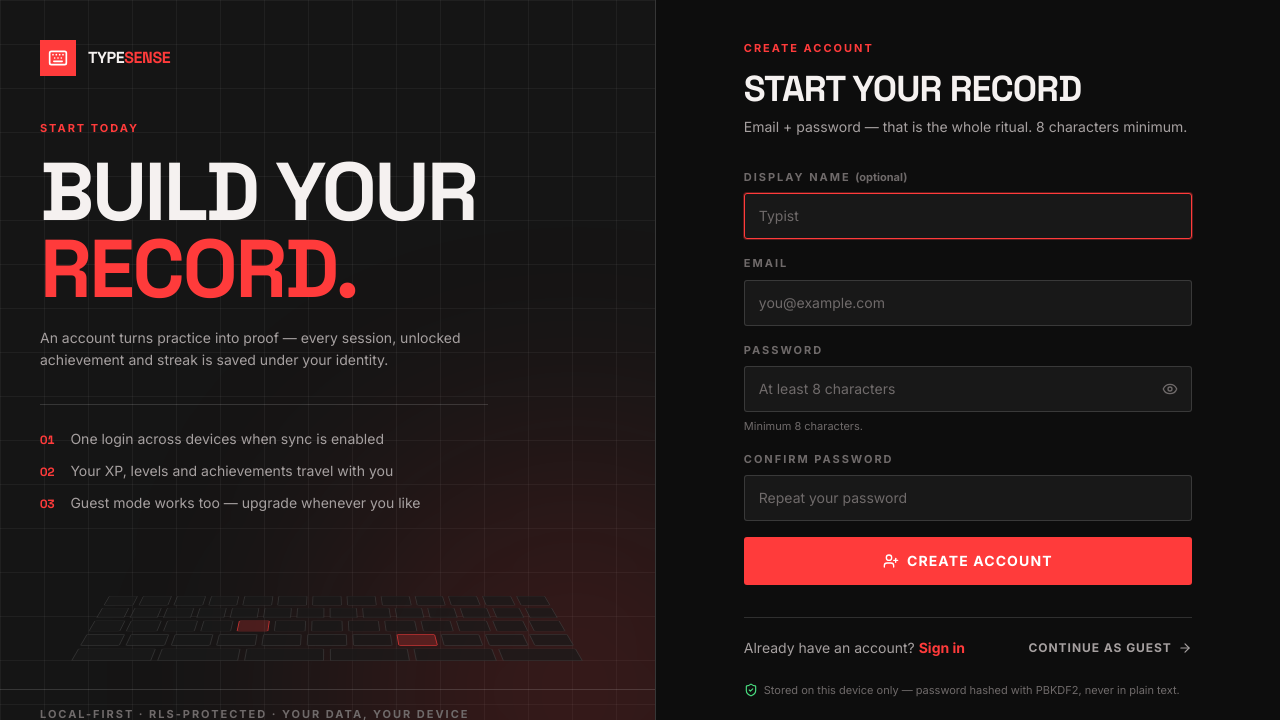
it: auth pages › rejects short passwords before any network work
The width and height of the screenshot is (1280, 720).
Type "new@example.com" into the field labelled "Email" at (968, 302), box [744,280,1192,326]
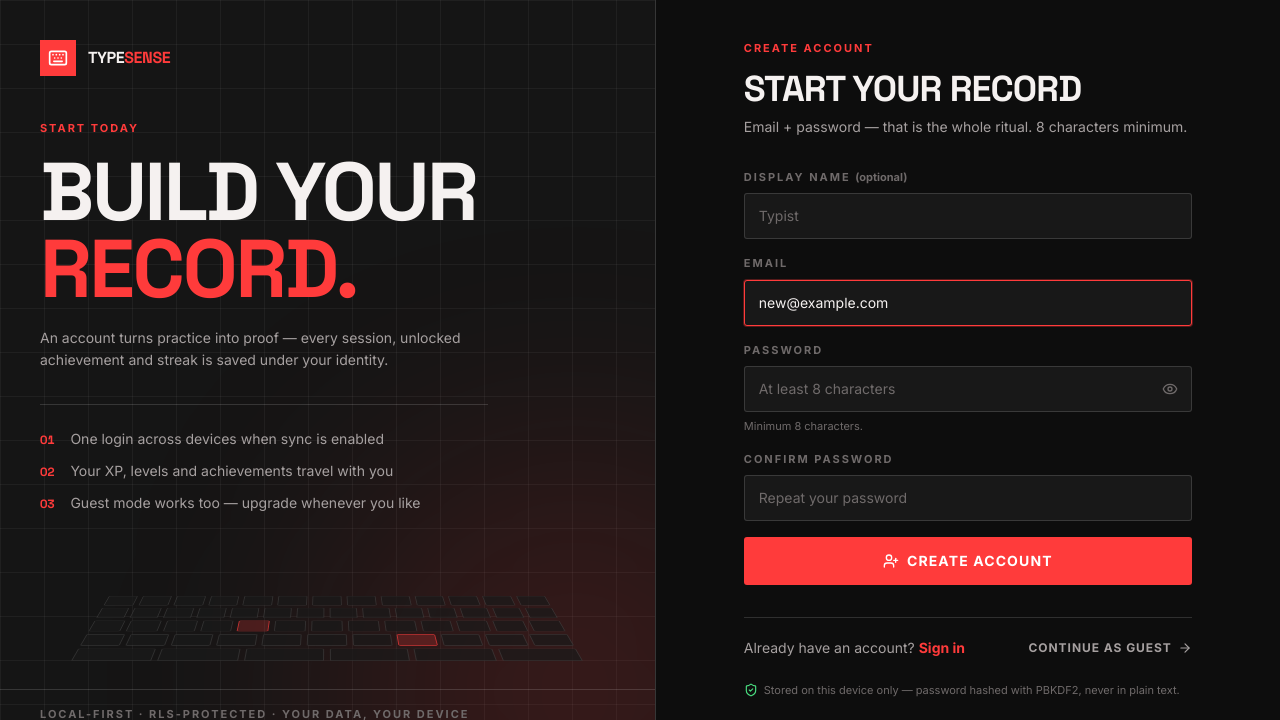
Type "short" into the password field labelled "Password" at (968, 389), box [744,366,1192,412]
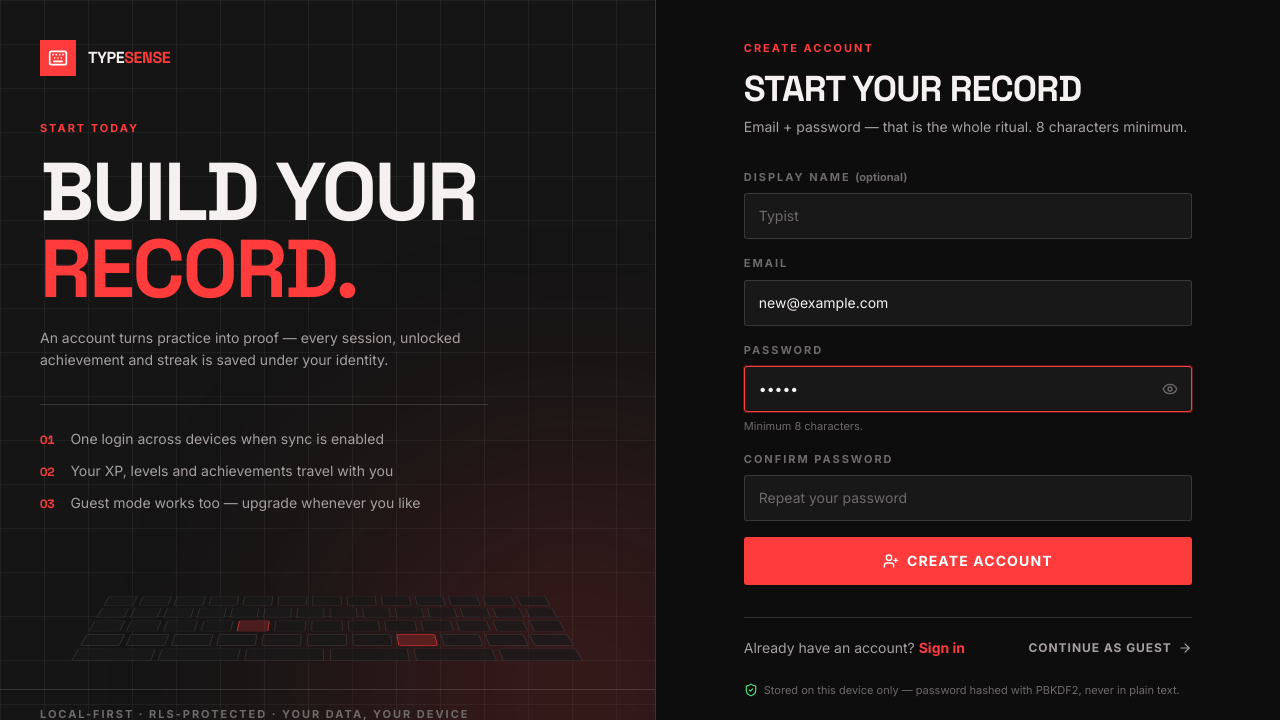
Type "short" into the password field labelled "Confirm password" at (968, 498), box [744,475,1192,521]
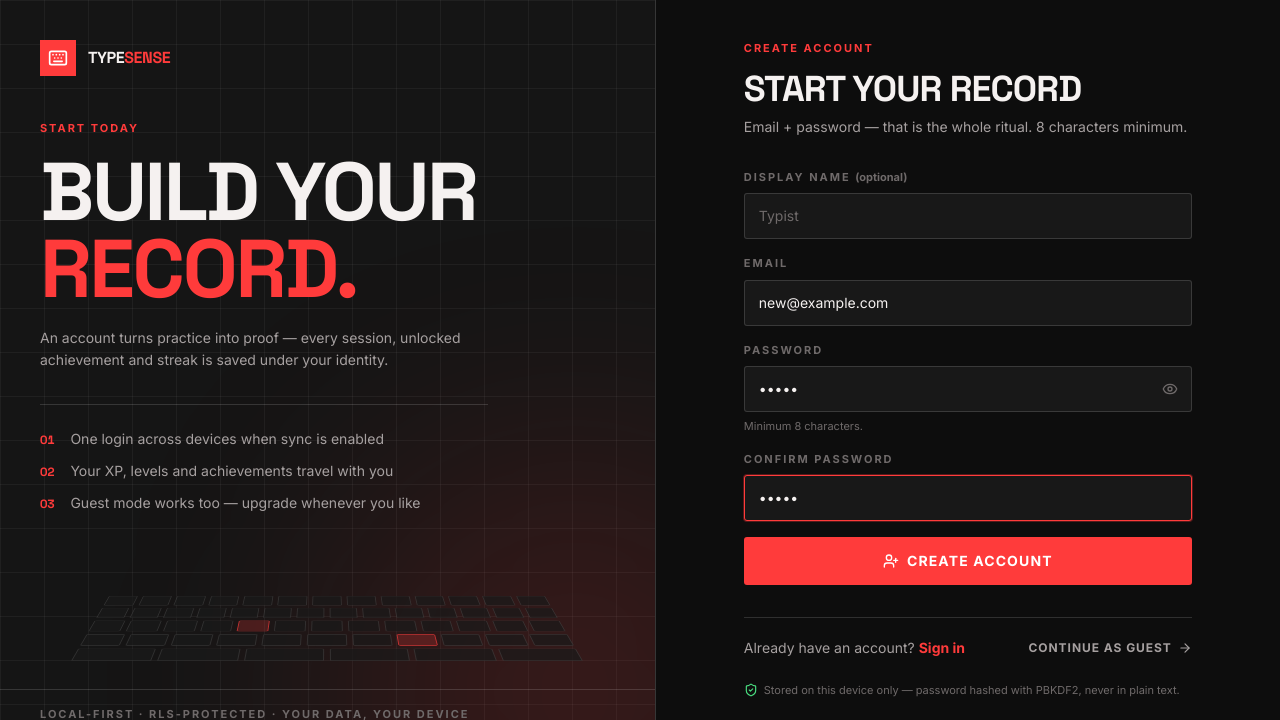
Click the button "Create account" at (968, 561), box [744,537,1192,585]
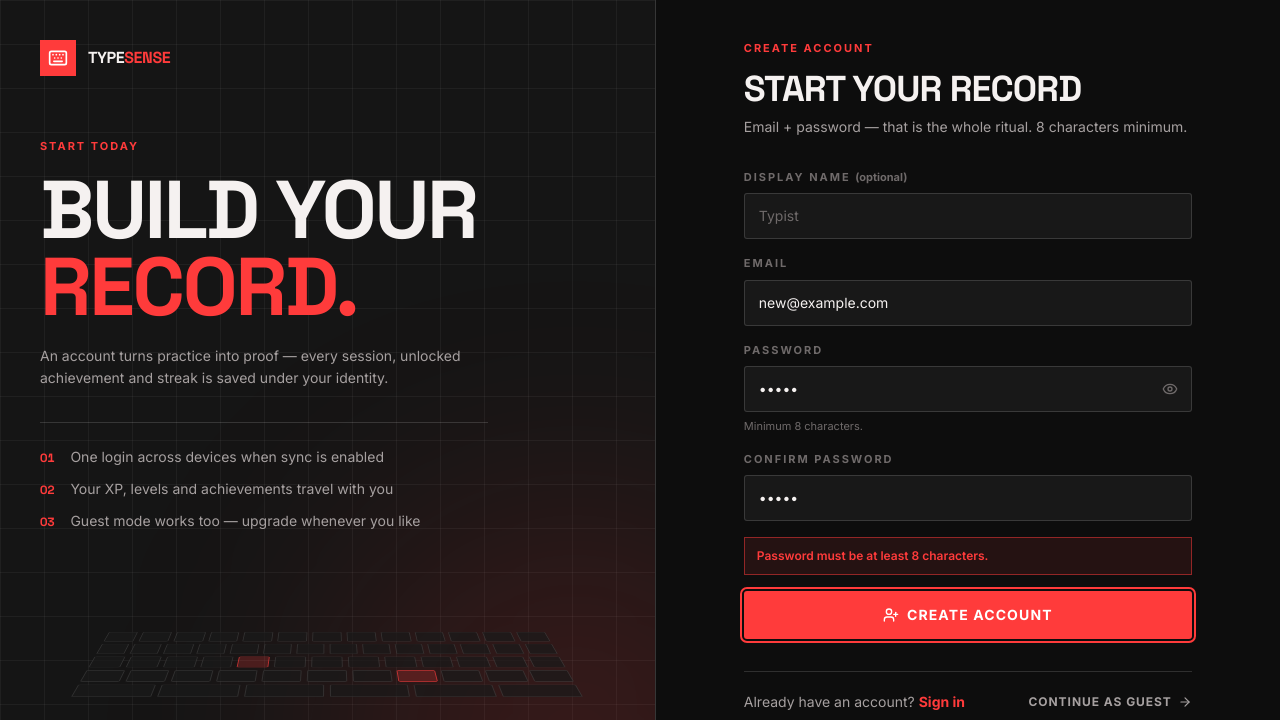
Check: the message shows "at least 8 characters", box [757,548,988,563]
